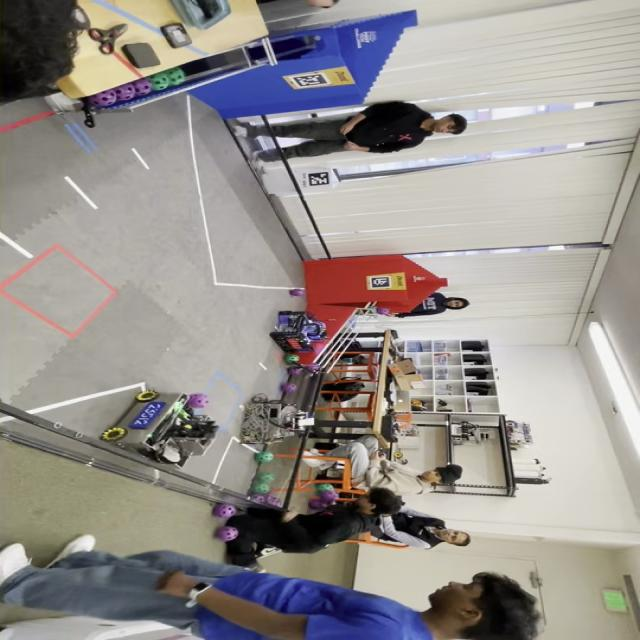artifact_green: (149, 72, 169, 91), (164, 68, 186, 85), (317, 491, 338, 505), (309, 497, 327, 511), (251, 483, 270, 494), (255, 472, 274, 483), (316, 484, 334, 493), (281, 383, 297, 393), (306, 363, 322, 373), (287, 366, 304, 375), (285, 354, 299, 363), (394, 452, 404, 460)
artifact_purple: (89, 90, 117, 107), (132, 78, 152, 97), (114, 84, 136, 101), (150, 72, 169, 91), (215, 526, 239, 541), (213, 504, 237, 519), (187, 394, 208, 408), (318, 491, 338, 504), (255, 451, 274, 463), (309, 498, 325, 510), (252, 483, 270, 493), (267, 495, 282, 507), (316, 484, 335, 493), (249, 494, 267, 503), (281, 383, 297, 393), (287, 366, 304, 375), (302, 325, 317, 335), (284, 354, 299, 363), (307, 363, 321, 372), (290, 288, 304, 296), (376, 308, 391, 315)
